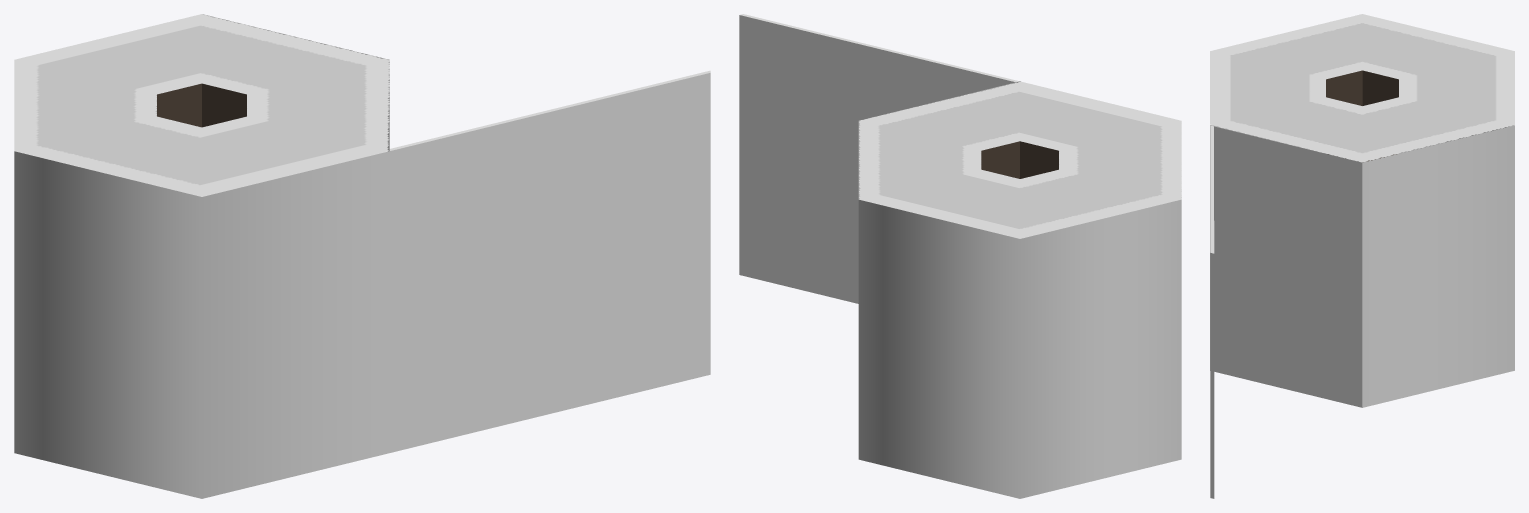
File: ToiletPaper2.FBX
3 renders of one model, left to right at view 1: azimuth 30°, elevation 25°; view 2: azimuth 150°, elevation 25°; view 3: azimuth 270°, elevation 25°, orthographic. The views are drawn at different scales.
Visible parts, largest first — view 1: ToiletPaper2; view 2: ToiletPaper2; view 3: ToiletPaper2.
Boxes of the visible parts, box(x1,y1,x2,y2) form: ToiletPaper2: box(14, 14, 710, 498); ToiletPaper2: box(739, 14, 1181, 498); ToiletPaper2: box(1210, 14, 1514, 498).
Bounding box in the file's own units: 34.74 × 16.57 × 18.66.
